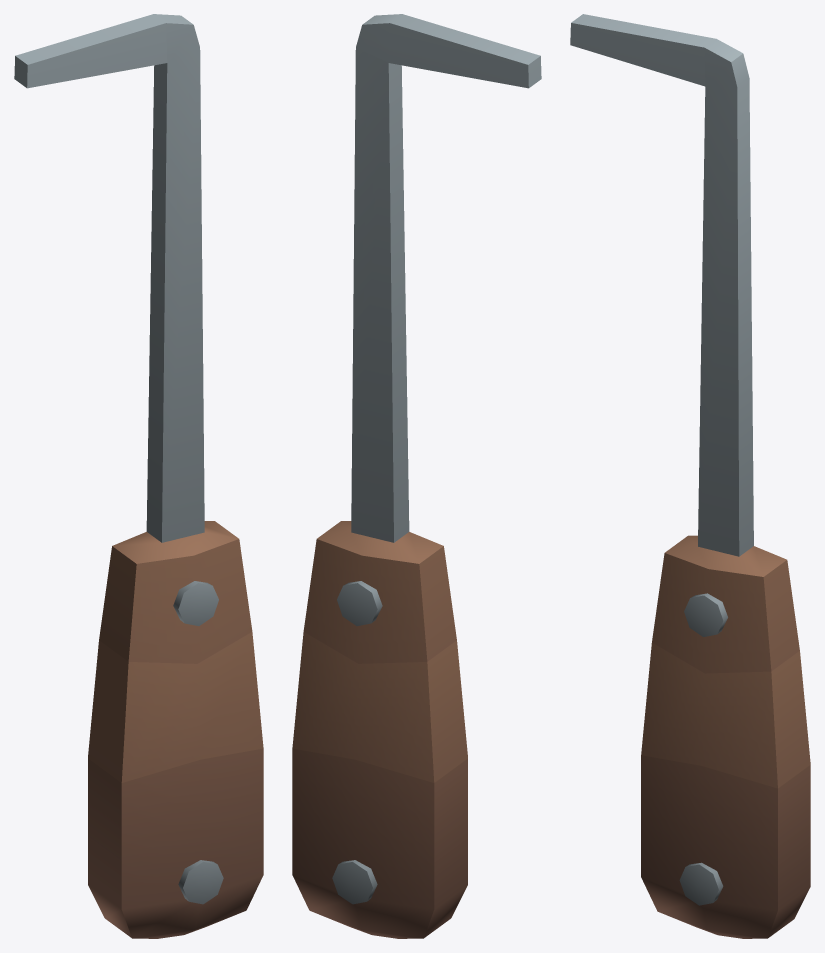
File: lockpick_D.obj
3 renders of one model, left to right at view 1: azimuth 30°, elevation 25°; view 2: azimuth 150°, elevation 25°; view 3: azimuth 330°, elevation 25°, orthographic. The views are drawn at different scales.
Parts seen in each view (by area): view 1: lockpick_D; view 2: lockpick_D; view 3: lockpick_D.
Part boxes in pixels (left/top/right/bottom): lockpick_D: left=14, top=14, right=263, bottom=938; lockpick_D: left=292, top=14, right=541, bottom=938; lockpick_D: left=570, top=14, right=810, bottom=938.
Bounding box in the file's own units: 0.241 × 0.9347 × 0.1093.
Materials: 1 (1 with a texture image).
